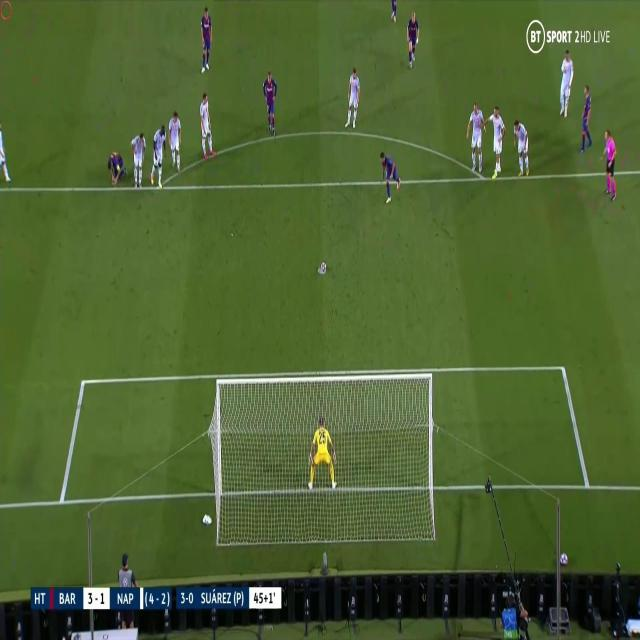ball: (317, 258, 328, 276)
player: (305, 416, 338, 492), (597, 125, 618, 198), (466, 98, 486, 174), (487, 103, 506, 177), (376, 150, 401, 200), (260, 67, 278, 135), (576, 85, 594, 152), (148, 122, 166, 188), (558, 45, 574, 118), (198, 91, 215, 159), (343, 65, 361, 129), (128, 130, 147, 188), (197, 5, 213, 73), (512, 117, 530, 176), (167, 107, 182, 171), (404, 9, 420, 67), (0, 123, 13, 183), (106, 146, 126, 183)
